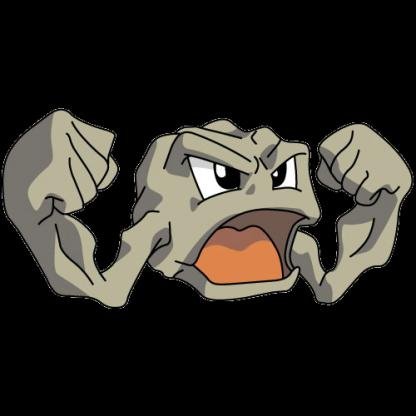Geodude: (1, 14, 416, 416)
